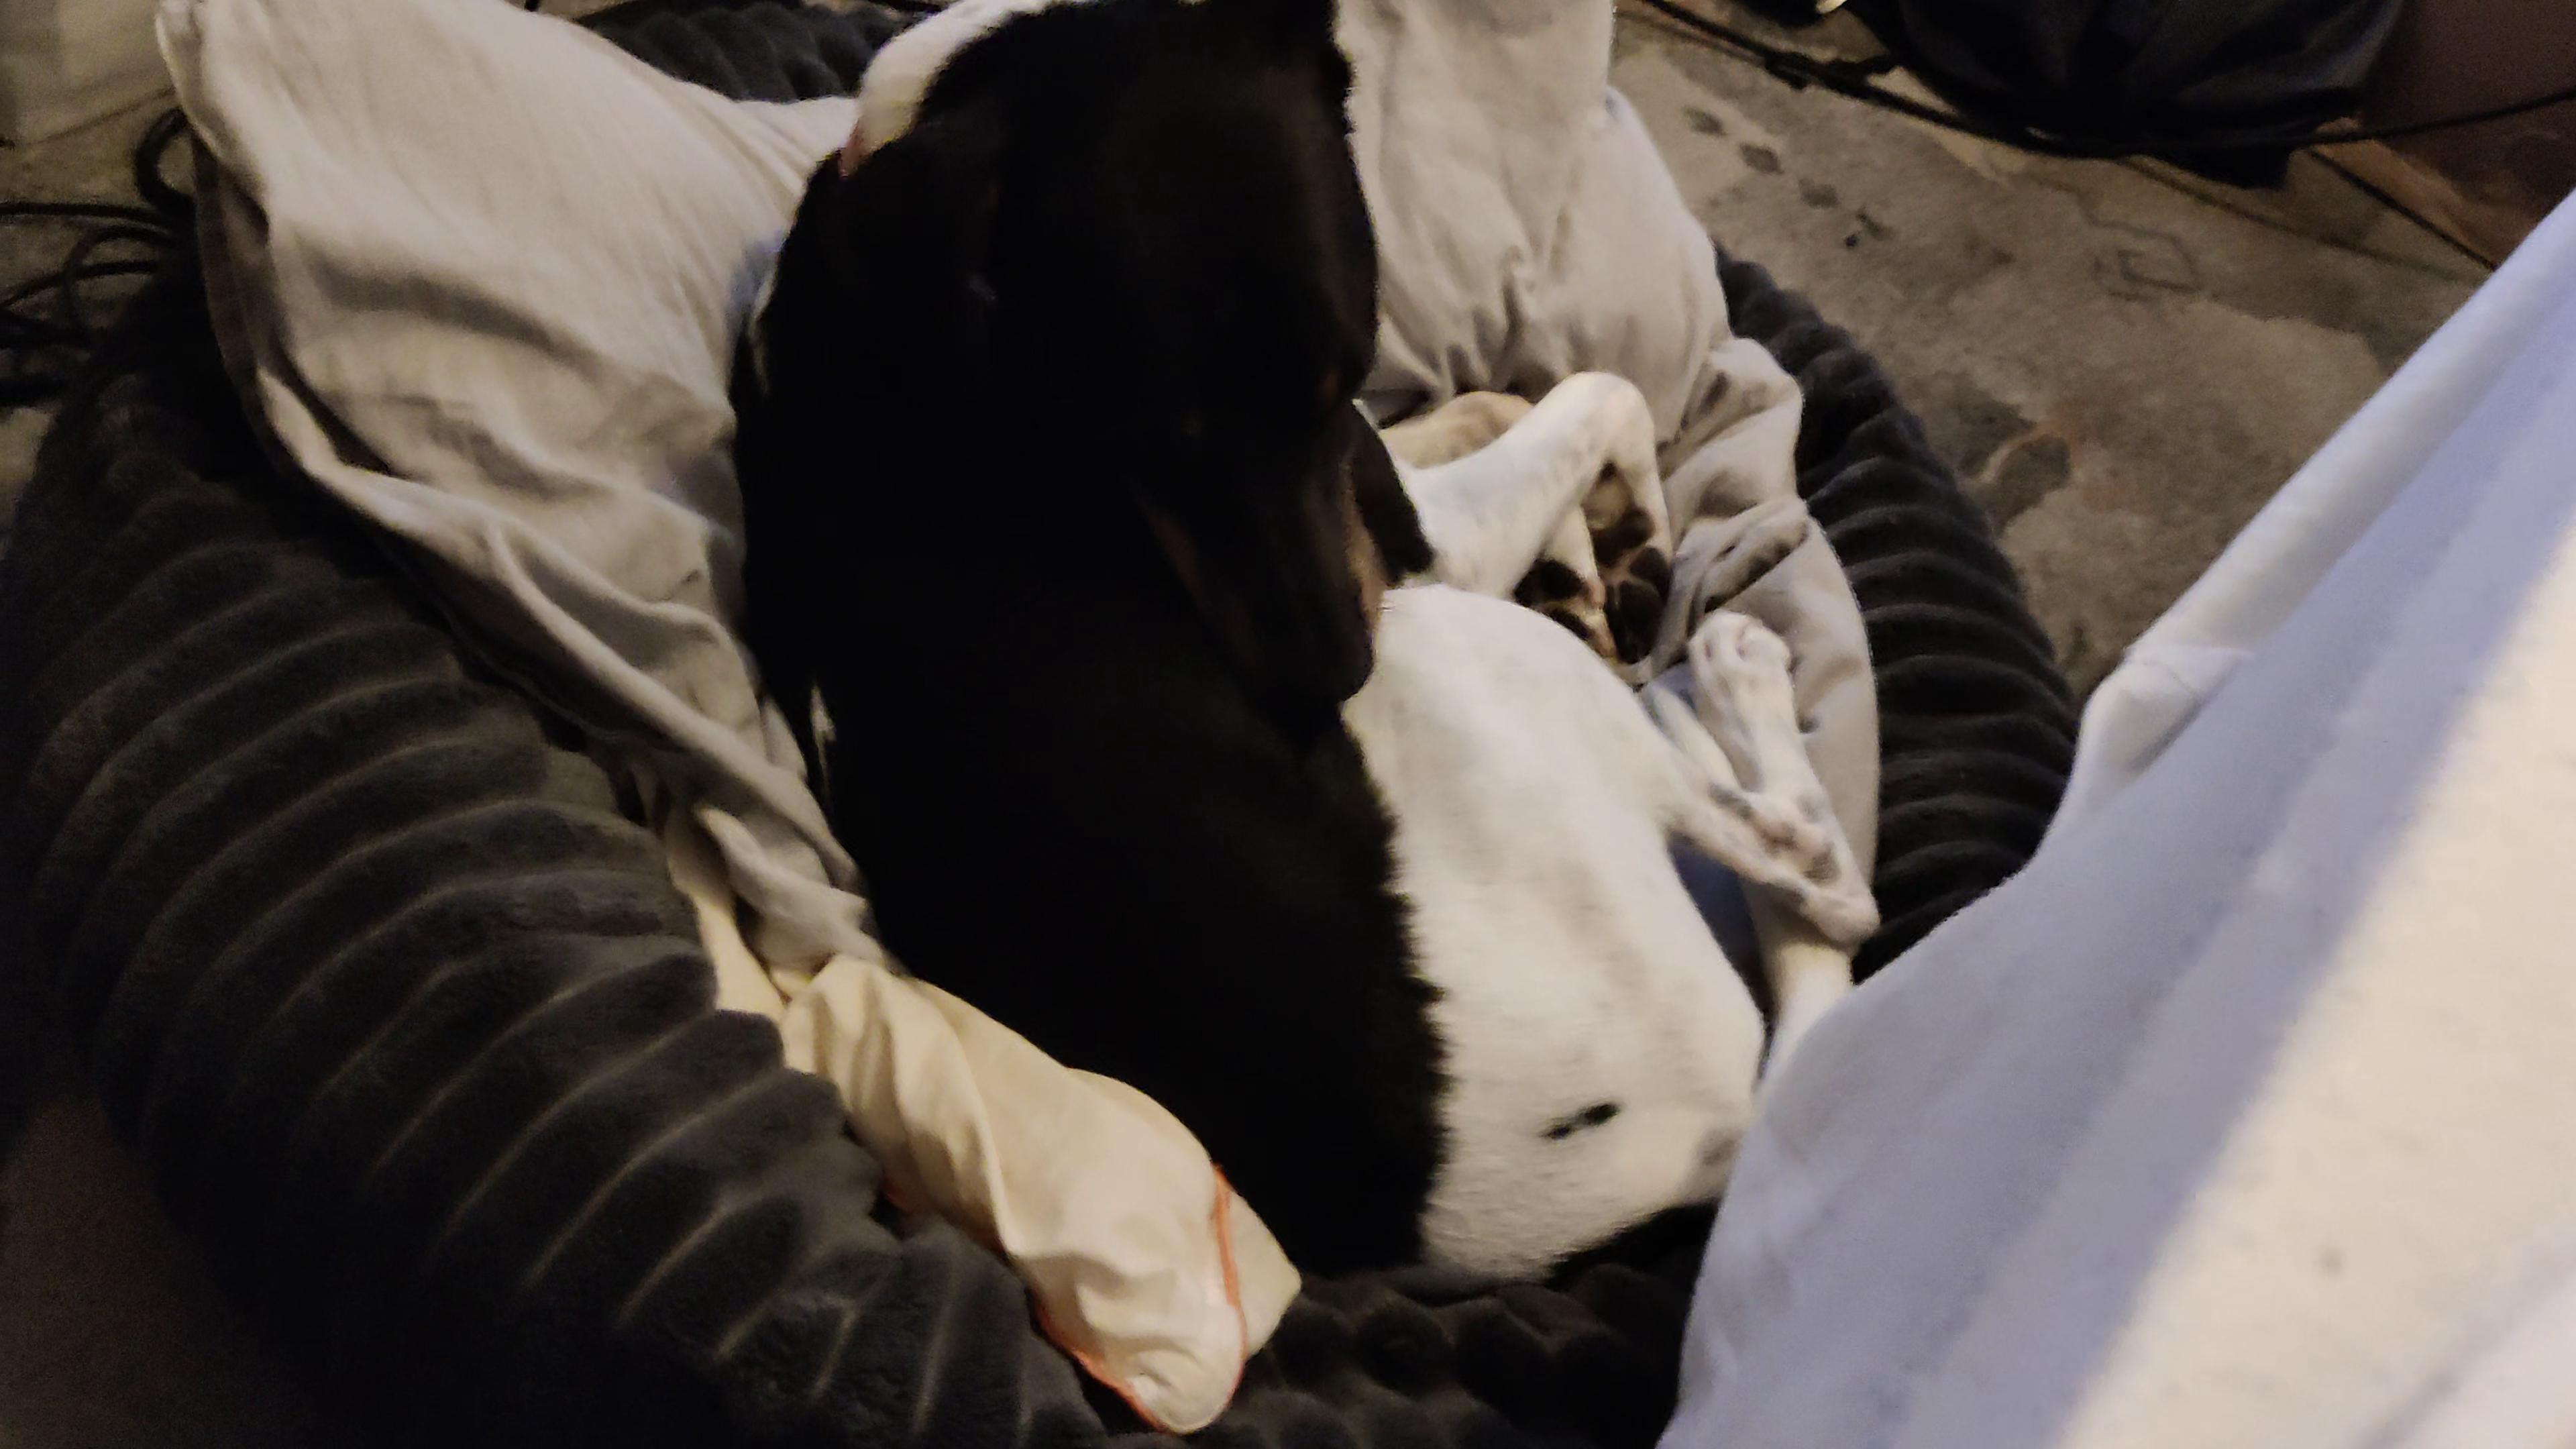Dog: (686, 0, 1971, 1293)
